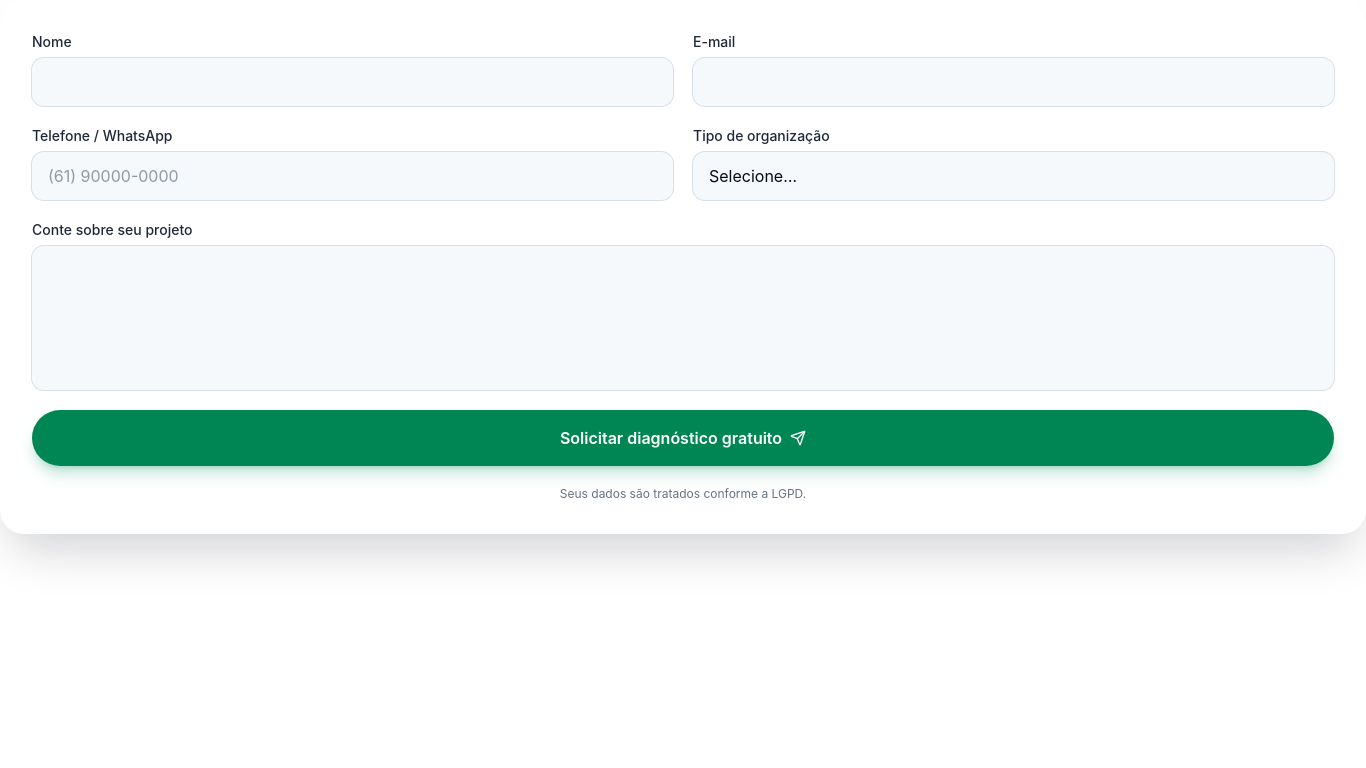
Test case: ContactForm (integração) › mostra erro geral quando a entrega falha
The width and height of the screenshot is (1366, 768).
Step 1. Click the button "Solicitar diagnóstico gratuito" → x=683, y=438, box x1=32 y1=410 x2=1334 y2=466
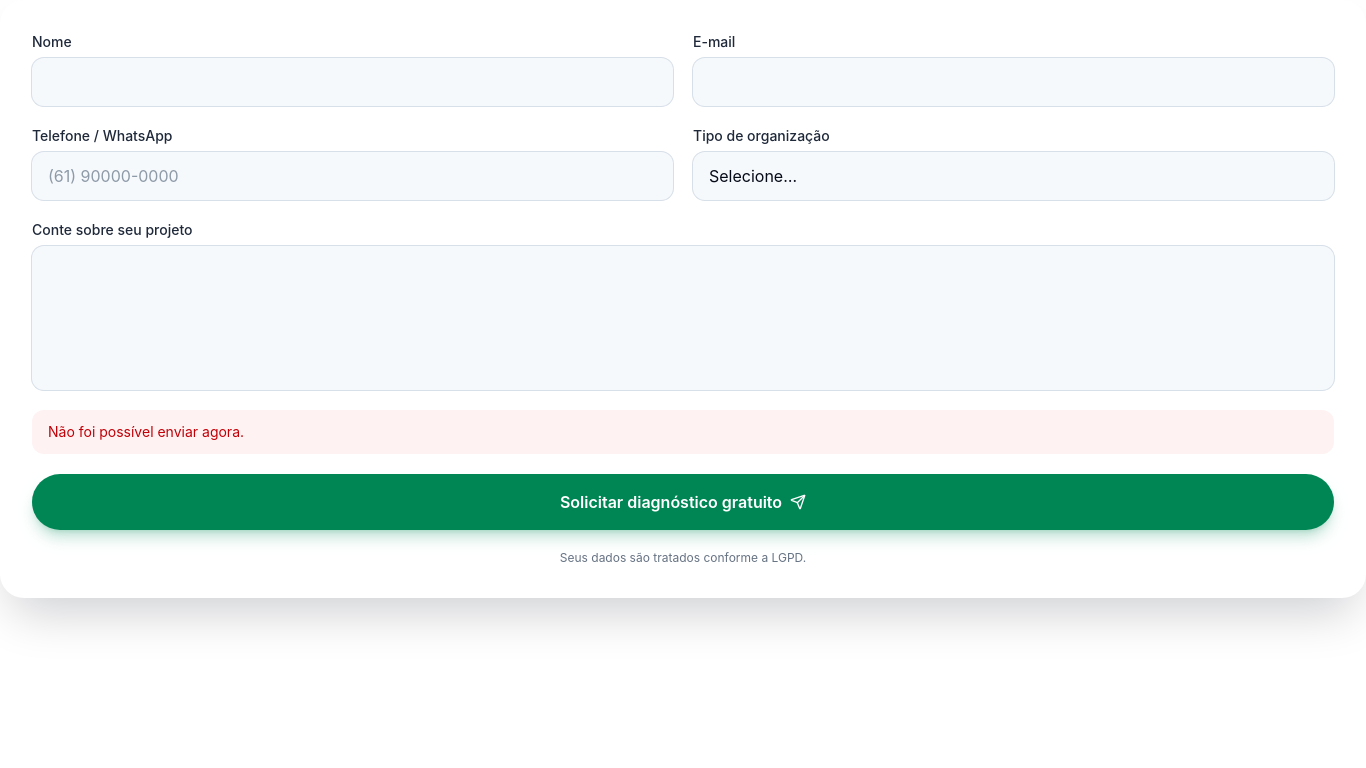
expect the text "Não foi possível enviar agora." is shown: met, box x1=32 y1=410 x2=1334 y2=454
